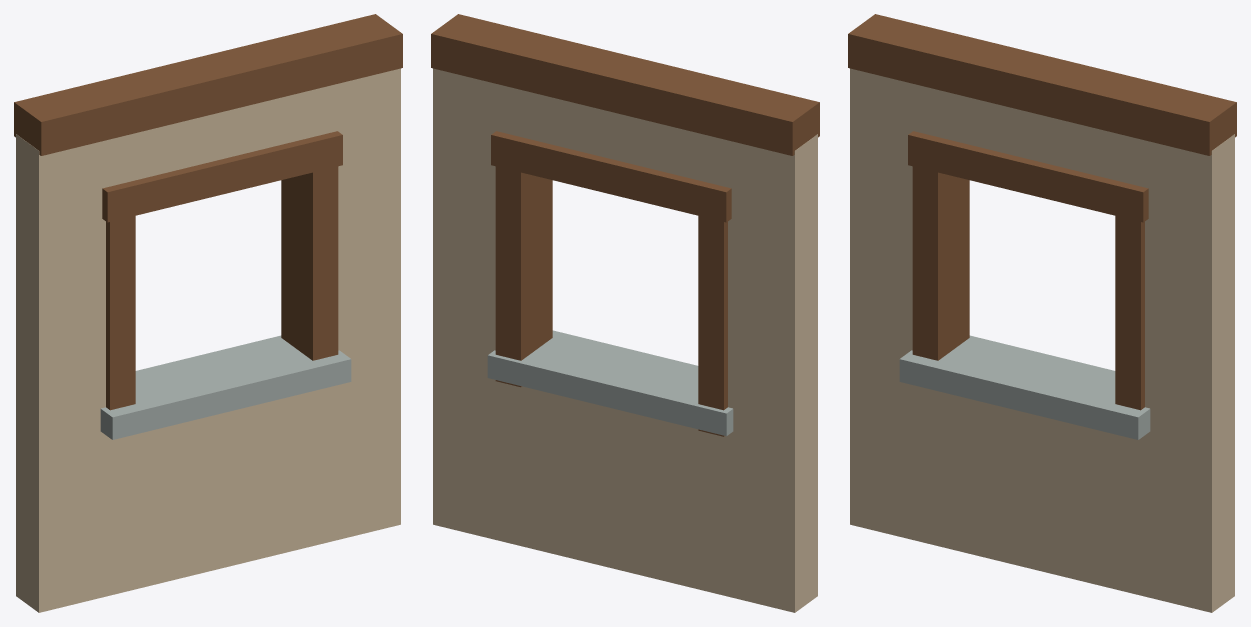
The picture shows the model from 3 angles, left to right: view 1: azimuth 30°, elevation 25°; view 2: azimuth 150°, elevation 25°; view 3: azimuth 330°, elevation 25°; orthographic projection.
Parts seen in each view (by area): view 1: village-window-wall-2m-01; view 2: village-window-wall-2m-01; view 3: village-window-wall-2m-01.
Boxes of the visible parts, x1,y1,x2,y2 form: village-window-wall-2m-01: (14,14,402,612); village-window-wall-2m-01: (431,14,819,612); village-window-wall-2m-01: (848,14,1236,612).
Bounding box in the file's own units: 2 × 2.6 × 0.4.
